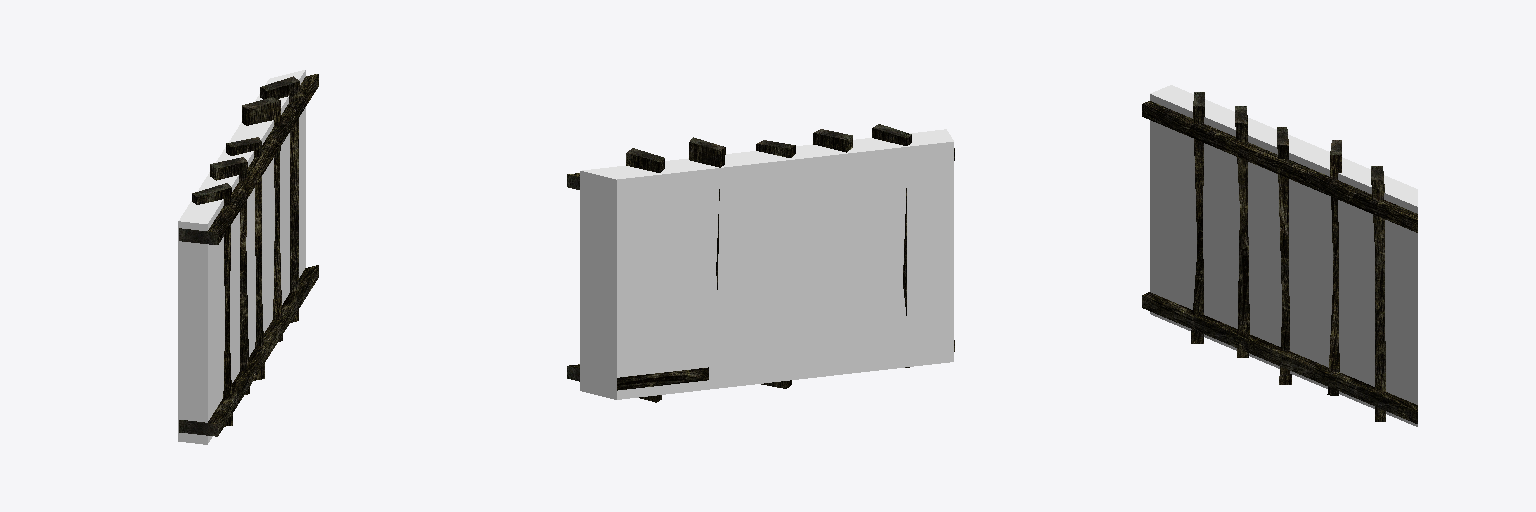
The picture shows the model from 3 angles: view 1: azimuth 30°, elevation 25°; view 2: azimuth 150°, elevation 25°; view 3: azimuth 270°, elevation 25°; orthographic projection.
Parts seen in each view (by area): view 1: default, Tri Ex_De_Docks_Steps_01 0, Tri Ex_De_Docks_Steps_01 1; view 2: default, Tri Ex_De_Docks_Steps_01 0, Tri Ex_De_Docks_Steps_01 1; view 3: default, Tri Ex_De_Docks_Steps_01 0, Tri Ex_De_Docks_Steps_01 1.
Part boxes in pixels (bbox=[...]): default: bbox=[178, 70, 305, 444]; Tri Ex_De_Docks_Steps_01 0: bbox=[181, 74, 318, 435]; Tri Ex_De_Docks_Steps_01 1: bbox=[179, 76, 298, 436]; default: bbox=[580, 129, 953, 399]; Tri Ex_De_Docks_Steps_01 0: bbox=[568, 128, 954, 402]; Tri Ex_De_Docks_Steps_01 1: bbox=[567, 124, 911, 381]; default: bbox=[1150, 85, 1417, 426]; Tri Ex_De_Docks_Steps_01 0: bbox=[1142, 101, 1417, 423]; Tri Ex_De_Docks_Steps_01 1: bbox=[1193, 92, 1383, 179].
Size of the model in its own units: 172 by 156 by 156.
3 materials, 2 textured.